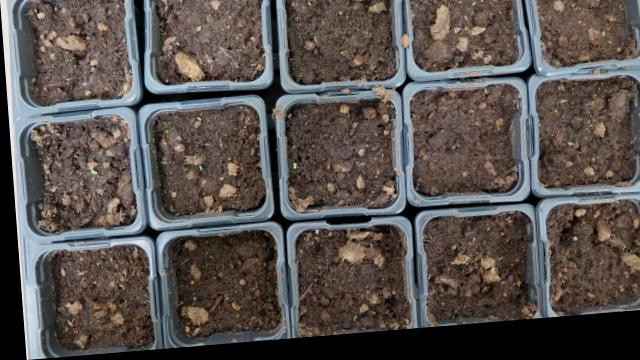weed: (82, 168, 97, 176), (287, 165, 296, 174)
